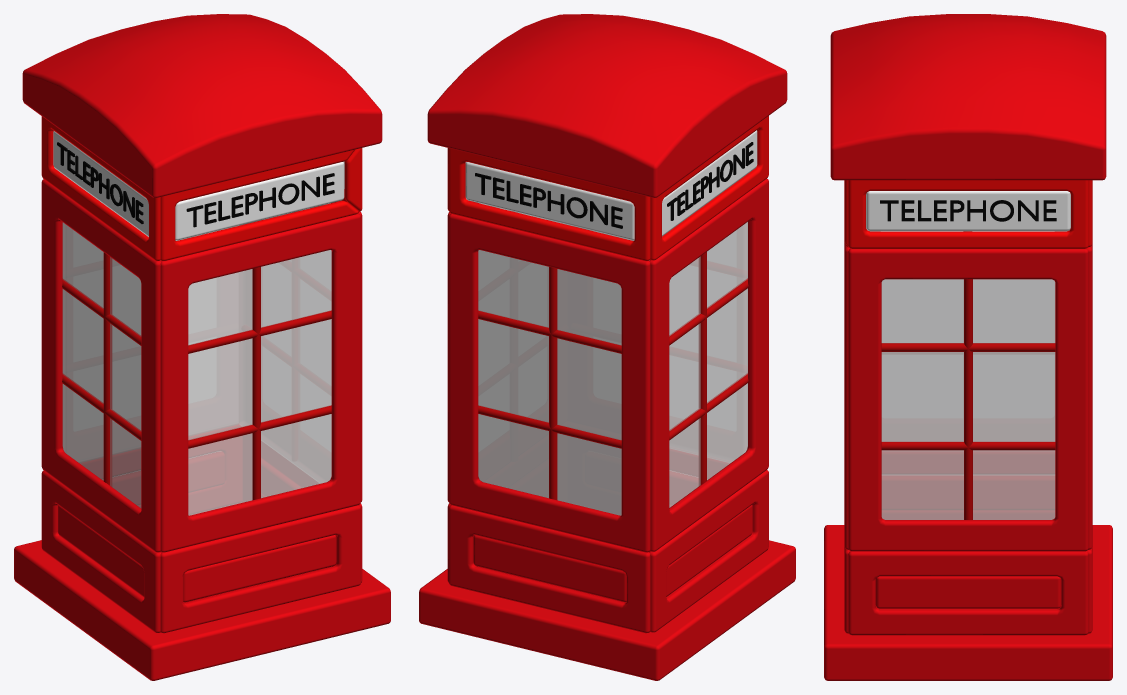
File: tel-booth[full].fbx
3 renders of one model, left to right at view 1: azimuth 30°, elevation 25°; view 2: azimuth 150°, elevation 25°; view 3: azimuth 270°, elevation 25°, orthographic. The views are drawn at different scales.
Visible parts, largest first — view 1: Cube.001, Cube.045, Cube.043, Cube.002, Cube.016, Cube.019, Cube.005, Cube.044, Cube.018, Cube.041, Cube.046, Cube.042 (+13 smaller); view 2: Cube.001, Cube.012, Cube.026, Cube.009, Cube.002, Cube.016, Cube.019, Cube.011, Cube.045, Cube.018, Cube.010, Cube.015 (+11 smaller); view 3: Cube.001, Cube.005, Cube, Cube.019, Cube.002, Cube.004, Cube.003, Cube.007, Cube.006, Cube.020, Cube.008, Cube.018 (+3 smaller).
Boxes of the visible parts, x1,y1,x2,y2 form: Cube.001: [22, 14, 382, 197]; Cube.045: [188, 250, 331, 515]; Cube.043: [160, 213, 360, 552]; Cube.002: [14, 504, 390, 680]; Cube.016: [41, 179, 160, 552]; Cube.019: [62, 222, 141, 508]; Cube.005: [239, 203, 330, 482]; Cube.044: [160, 505, 360, 633]; Cube.018: [41, 470, 160, 632]; Cube.041: [160, 149, 358, 260]; Cube.046: [175, 162, 344, 240]; Cube.042: [183, 535, 336, 602]; Cube.001: [427, 14, 787, 197]; Cube.012: [478, 250, 621, 515]; Cube.026: [478, 250, 621, 515]; Cube.009: [449, 213, 650, 552]; Cube.002: [419, 540, 795, 680]; Cube.016: [649, 179, 768, 551]; Cube.019: [649, 222, 747, 507]; Cube.011: [449, 505, 650, 633]; Cube.045: [571, 223, 747, 462]; Cube.018: [649, 470, 768, 632]; Cube.010: [449, 148, 650, 260]; Cube.015: [465, 162, 634, 240]; Cube.001: [830, 14, 1106, 180]; Cube.005: [881, 279, 1055, 519]; Cube: [848, 248, 1088, 551]; Cube.019: [866, 227, 1070, 440]; Cube.002: [824, 525, 1112, 680]; Cube.004: [848, 551, 1088, 635]; Cube.003: [848, 180, 1088, 248]; Cube.007: [866, 191, 1070, 230]; Cube.006: [875, 576, 1061, 608]; Cube.020: [882, 476, 1054, 509]; Cube.008: [881, 279, 1055, 519]; Cube.018: [882, 451, 1054, 519].
Bounding box in the file's own units: 162 × 357 × 162.
